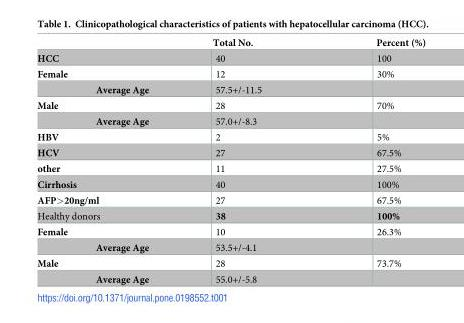table: (36, 37, 424, 284)
table column: (36, 37, 181, 284), (181, 37, 318, 284), (318, 37, 424, 284)
table column header: (36, 37, 424, 66)
table row: (36, 50, 424, 66), (36, 81, 424, 97), (36, 97, 424, 113), (36, 113, 424, 129), (36, 144, 424, 160), (36, 160, 424, 176), (36, 176, 424, 192), (36, 192, 424, 208), (36, 223, 424, 239), (36, 239, 424, 255), (36, 255, 424, 271), (36, 66, 424, 81), (36, 129, 424, 144), (36, 208, 424, 223), (36, 37, 424, 50), (36, 271, 424, 284)
table spanning cell: (36, 37, 424, 50)
